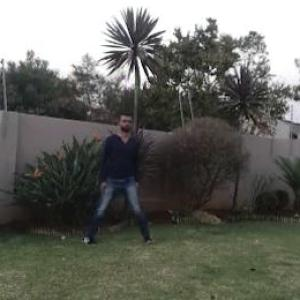follow: (99, 101, 140, 239)
